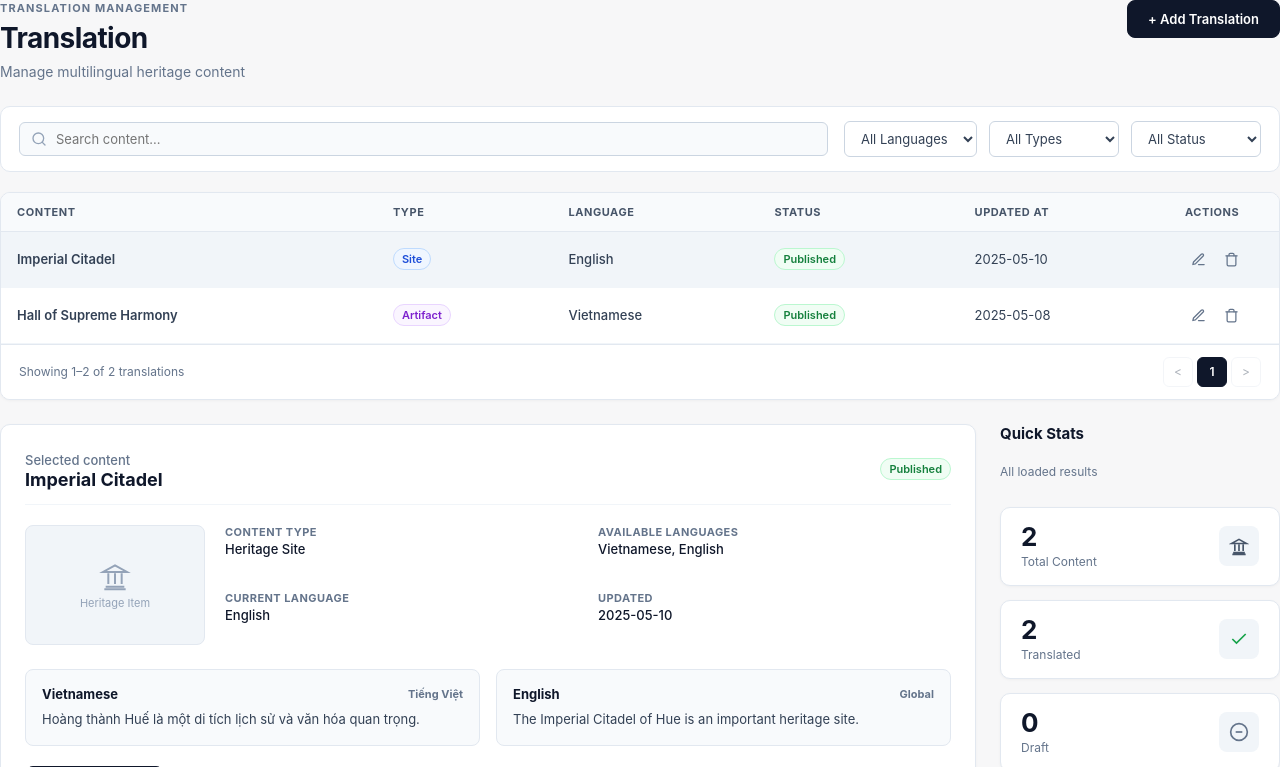
it: TranslationsPage — Admin Translation Management › closes the modal when pressing Escape
The image size is (1280, 767).
Click the button "+ Add Translation" at (1204, 19), box 1127,0 -> 1279,38
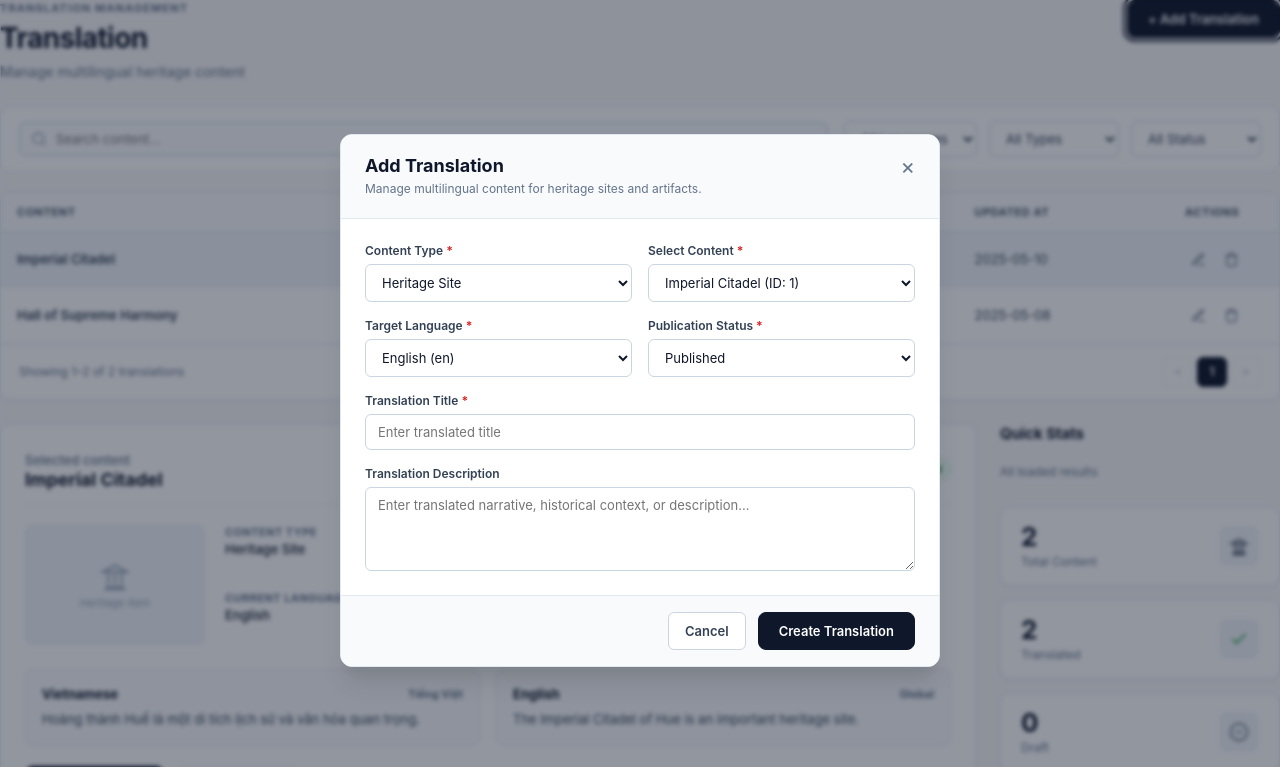
Expected: the dialog is shown, 340,134 -> 940,666
Press Escape
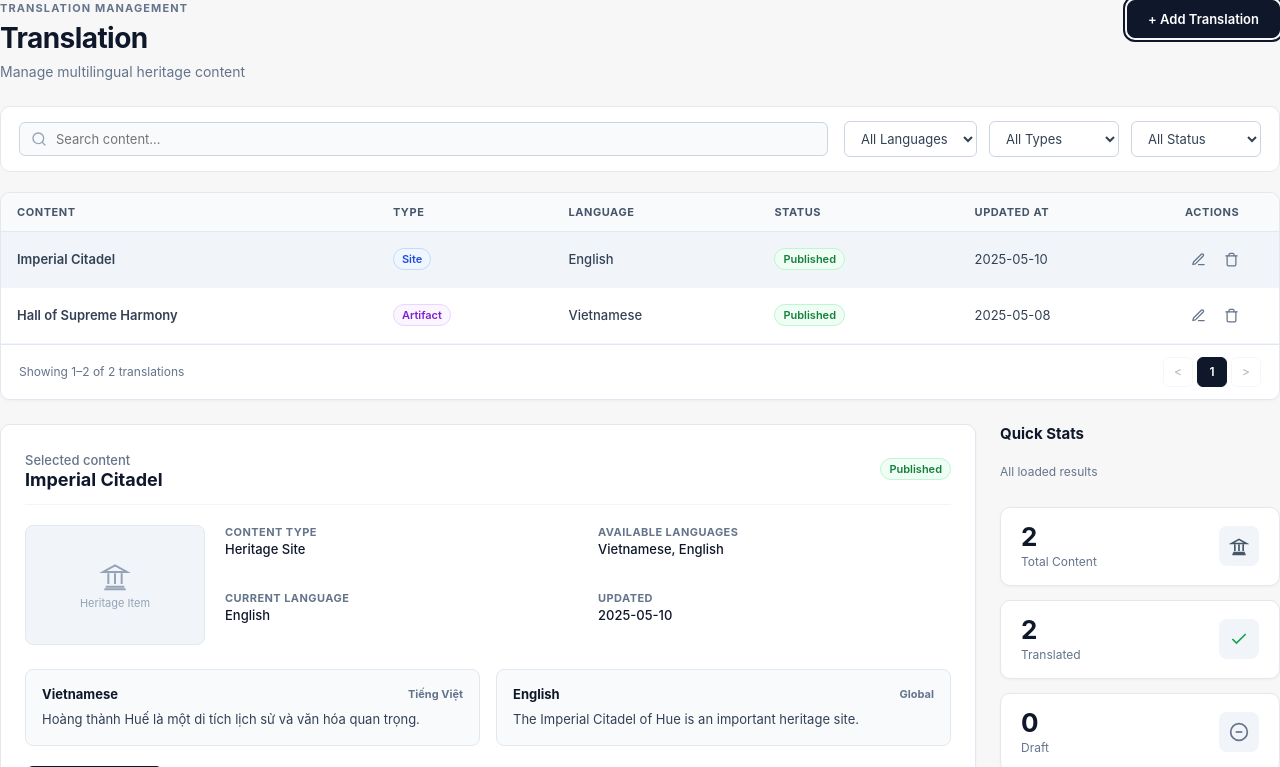
Expected: the dialog is gone
